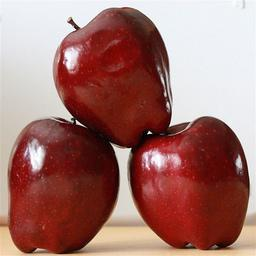apple: (50, 8, 173, 146), (127, 116, 250, 250), (7, 118, 120, 253)
